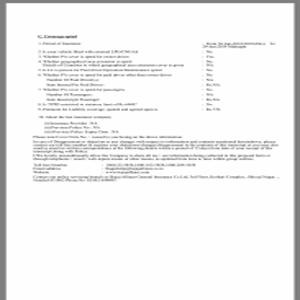text: (34, 31, 278, 133), (31, 132, 282, 183)
